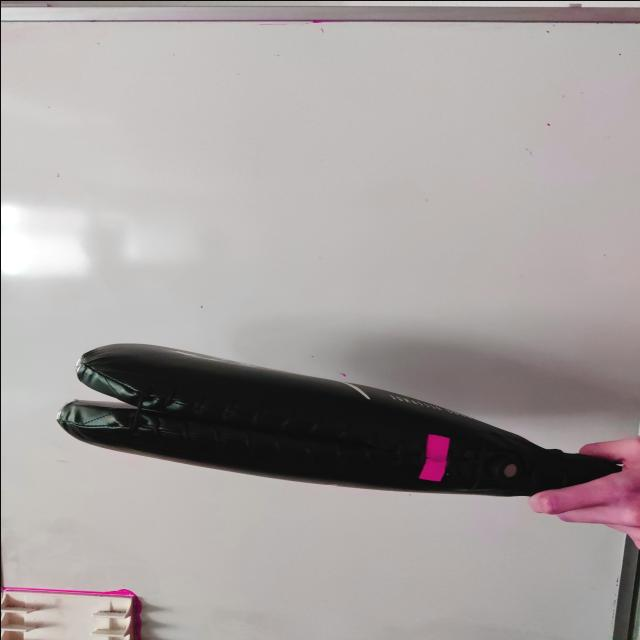paddle: (50, 340, 618, 498)
